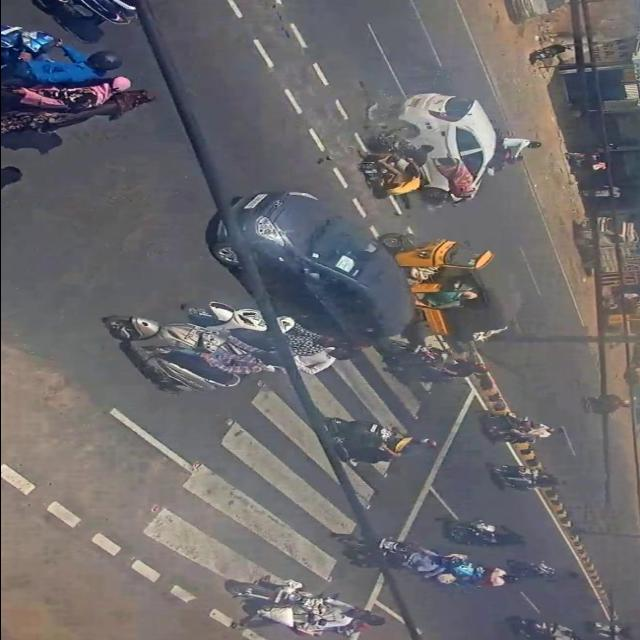accident: (344, 83, 520, 213)
non_accident: (104, 190, 520, 430)
